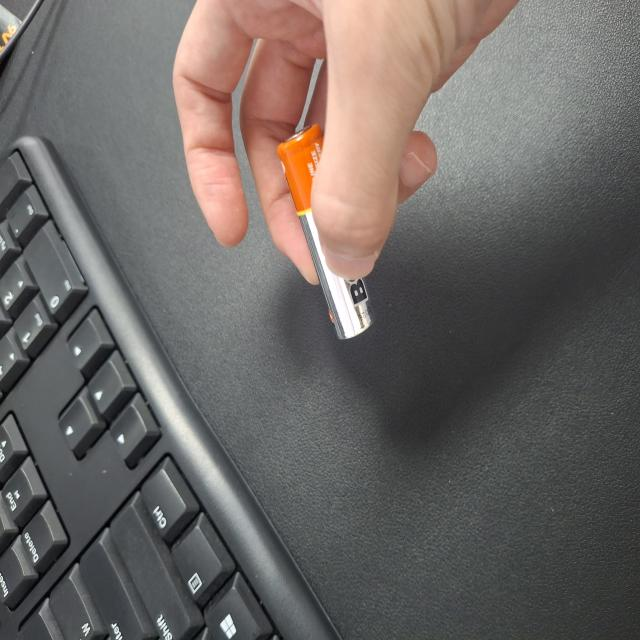AA: (225, 370, 387, 498)
